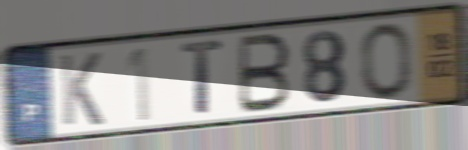1: (126, 46, 151, 122)
8: (302, 28, 349, 106)
B: (236, 31, 293, 117)
K: (57, 50, 106, 129)
O: (358, 21, 415, 101)
T: (179, 37, 227, 118)
